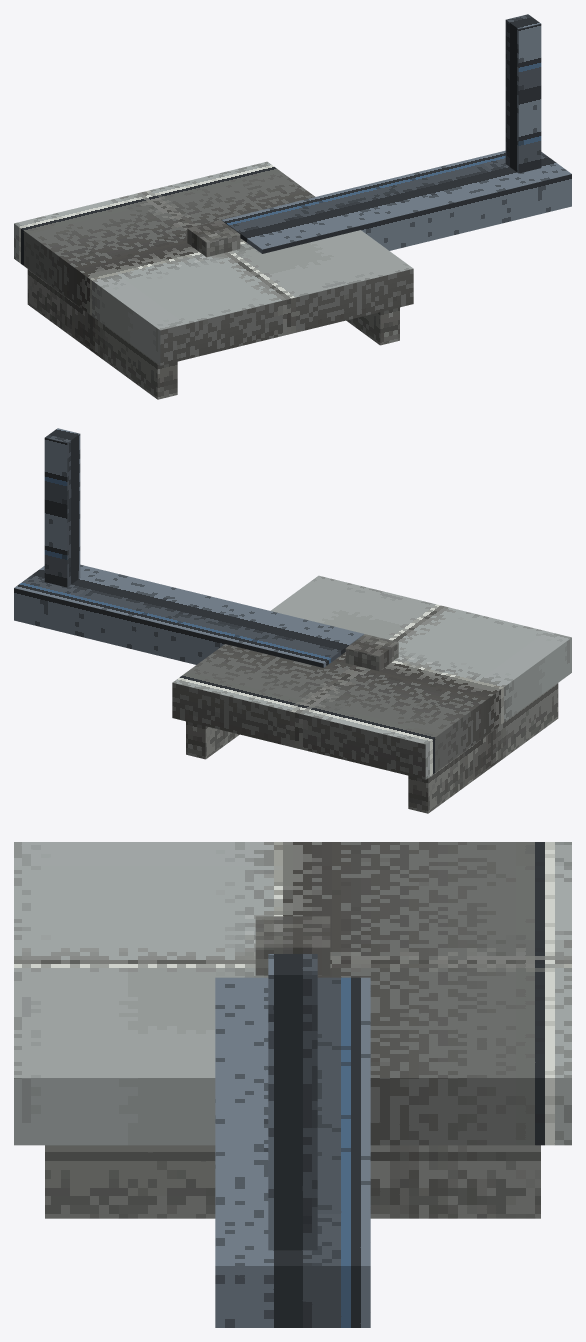
The model's file is yk_gantry_anchor.glb.
The picture shows the model from 3 angles, top to bottom: view 1: azimuth 30°, elevation 25°; view 2: azimuth 150°, elevation 25°; view 3: azimuth 270°, elevation 25°; orthographic projection. The views are drawn at different scales.
Parts seen in each view (by area): view 1: anchor_soffit, anchor_arm, anchor_stay, anchor_collar_-1, anchor_lamp, anchor_collar_1; view 2: anchor_soffit, anchor_arm, anchor_stay, anchor_collar_-1, anchor_lamp, anchor_collar_1; view 3: anchor_soffit, anchor_arm, anchor_collar_1, anchor_stay, anchor_lamp.
Boxes of the visible parts, box(x1,y1,x2,y2) form: anchor_soffit: box(14, 161, 413, 365); anchor_arm: box(221, 150, 571, 253); anchor_stay: box(505, 14, 541, 173); anchor_collar_-1: box(27, 269, 177, 399); anchor_lamp: box(187, 220, 240, 257); anchor_collar_1: box(346, 307, 399, 345); anchor_soffit: box(172, 575, 571, 779); anchor_arm: box(14, 564, 364, 667); anchor_stay: box(44, 428, 80, 587); anchor_collar_-1: box(408, 683, 558, 813); anchor_lamp: box(345, 634, 398, 671); anchor_collar_1: box(186, 721, 239, 759); anchor_soffit: box(14, 842, 571, 1145); anchor_arm: box(215, 977, 370, 1327); anchor_collar_1: box(45, 1145, 540, 1218); anchor_stay: box(268, 954, 317, 1250); anchor_lamp: box(255, 916, 330, 975).
Bounding box in the file's own units: 3.3 × 1.53 × 1.8.
3 materials, 3 textured.
